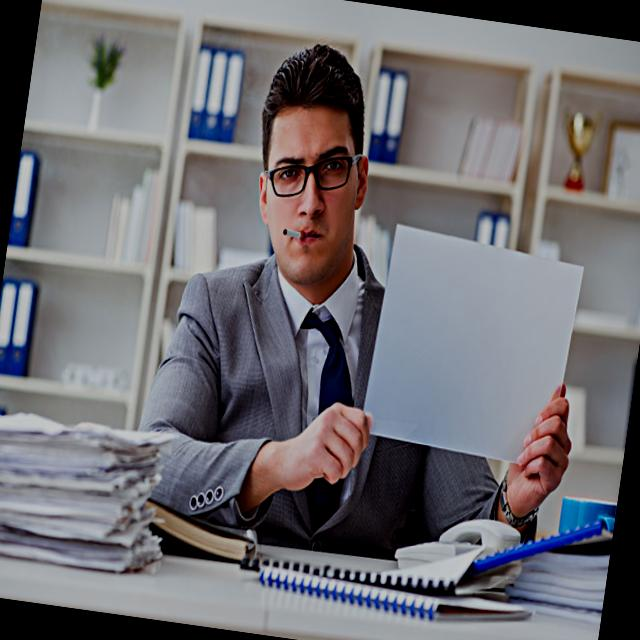cigarette: (280, 225, 306, 242)
